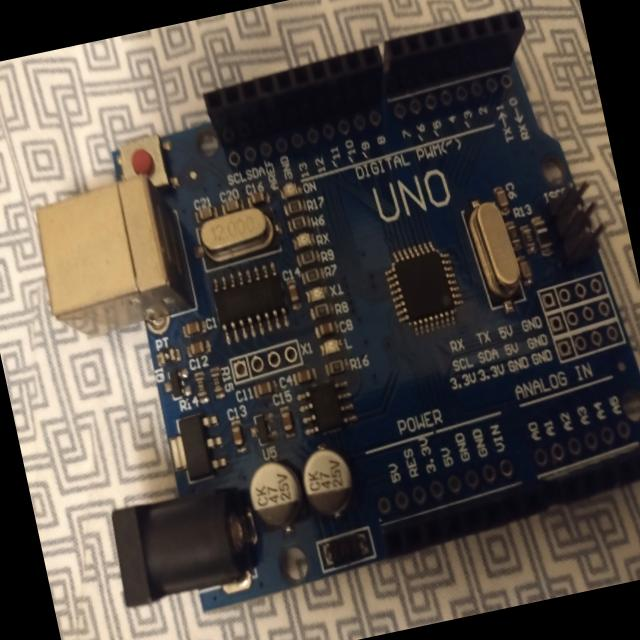arduino: (0, 0, 640, 632)
